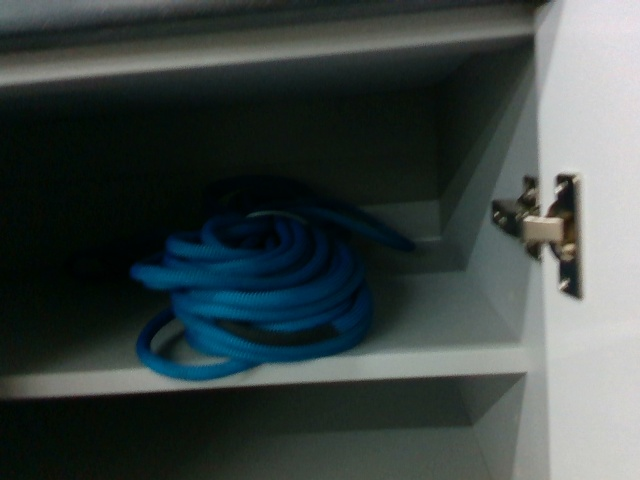rope: (147, 218, 368, 347)
